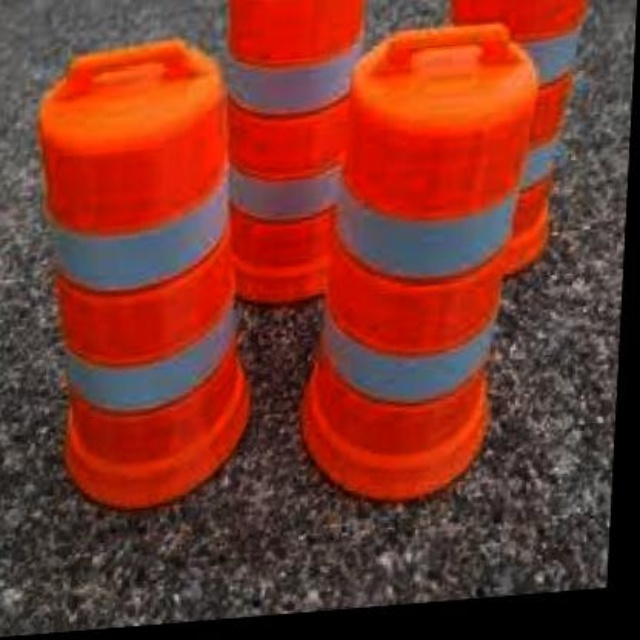obstacle: (298, 29, 546, 526), (27, 41, 266, 522)
